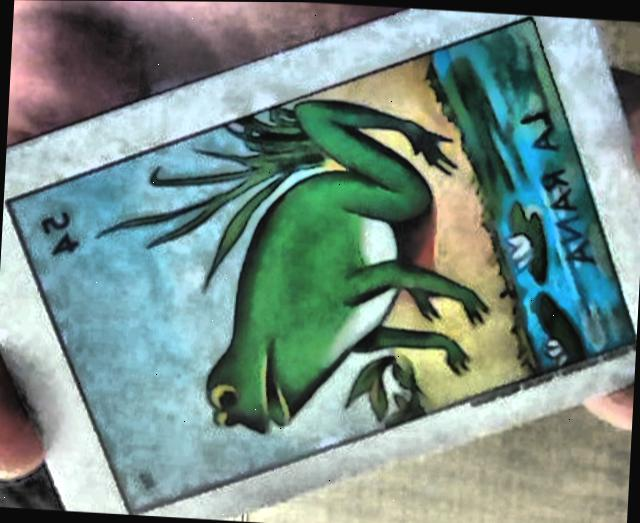La Rana: (9, 18, 635, 512)
